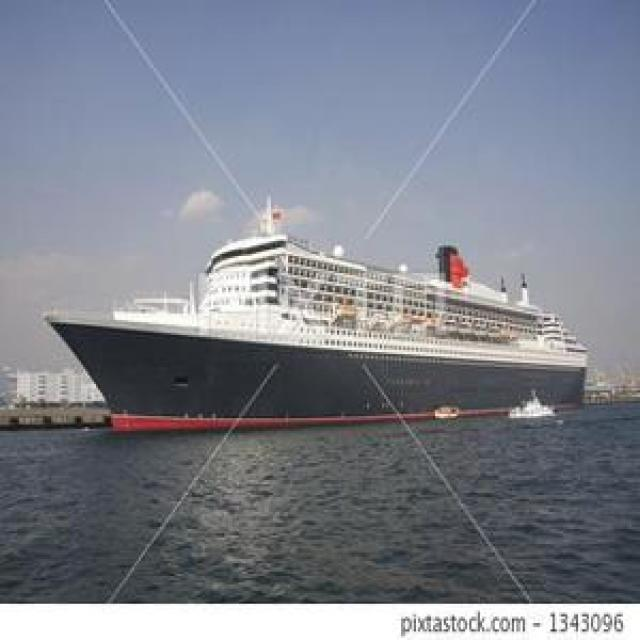houseboat: (504, 383, 564, 426)
passenger ship: (32, 228, 584, 415)
